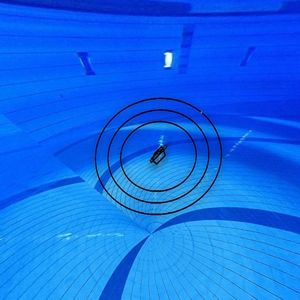circle: (93, 94, 227, 220)
submarine: (147, 140, 177, 169)
